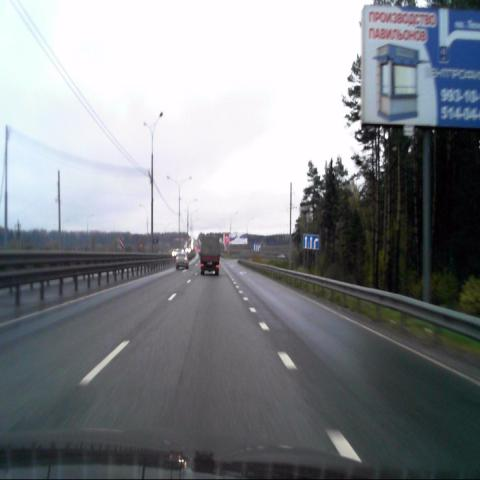5_15_1: (302, 235, 320, 248)
